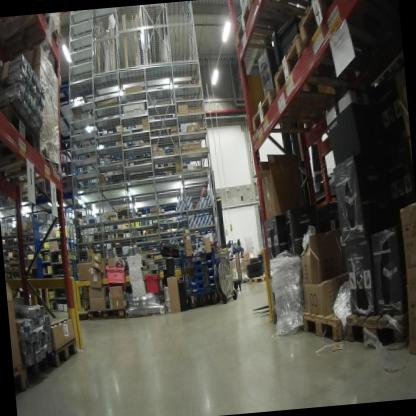pallet: (268, 22, 399, 121), (294, 0, 404, 79), (248, 81, 345, 141), (230, 0, 321, 60), (1, 139, 68, 192), (0, 100, 43, 176), (349, 298, 409, 352), (0, 14, 66, 55), (296, 301, 350, 344), (24, 349, 53, 393), (51, 341, 83, 377), (86, 302, 128, 325), (14, 365, 31, 399), (247, 272, 268, 288)
small_load_carrier: (103, 260, 129, 292), (141, 272, 164, 295)
